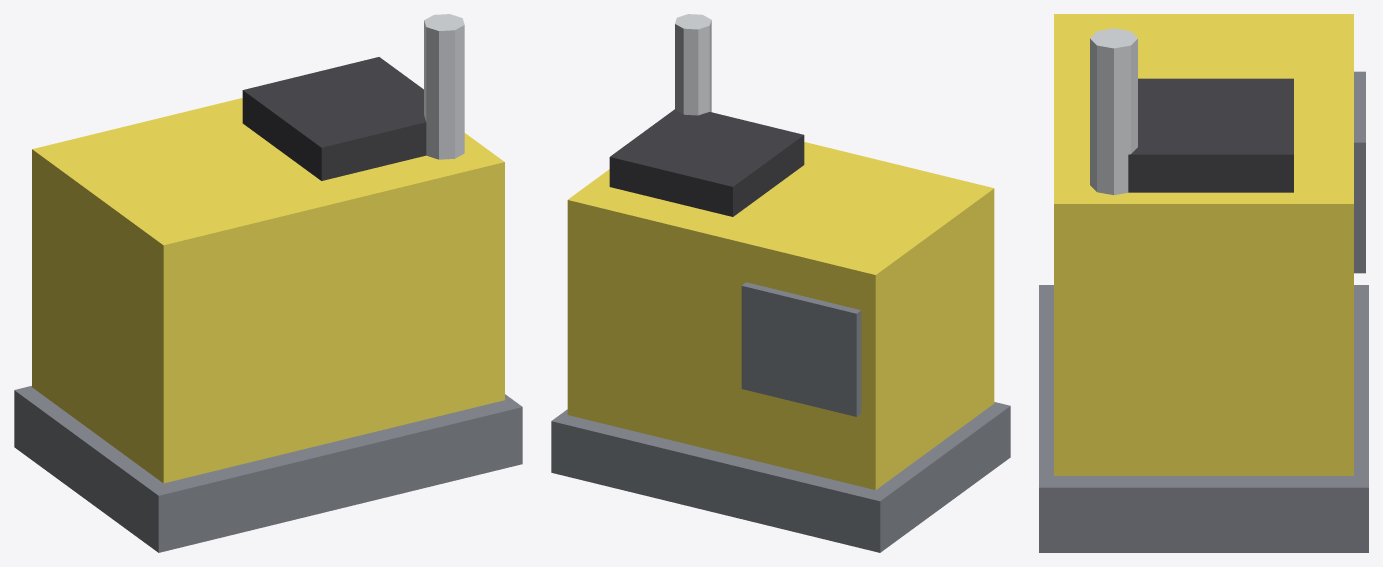
Rendered from generator.glb.
3 views of the same model, side by side, from view 1: azimuth 30°, elevation 25°; view 2: azimuth 150°, elevation 25°; view 3: azimuth 270°, elevation 25° (orthographic). The views are drawn at different scales.
Visible parts, largest first — view 1: generator; view 2: generator; view 3: generator.
Boxes of the visible parts, x1,y1,x2,y2 form: generator: (14, 14, 522, 552); generator: (551, 14, 1010, 552); generator: (1039, 14, 1368, 552).
Bounding box in the file's own units: 0.8 × 0.9 × 0.55.
